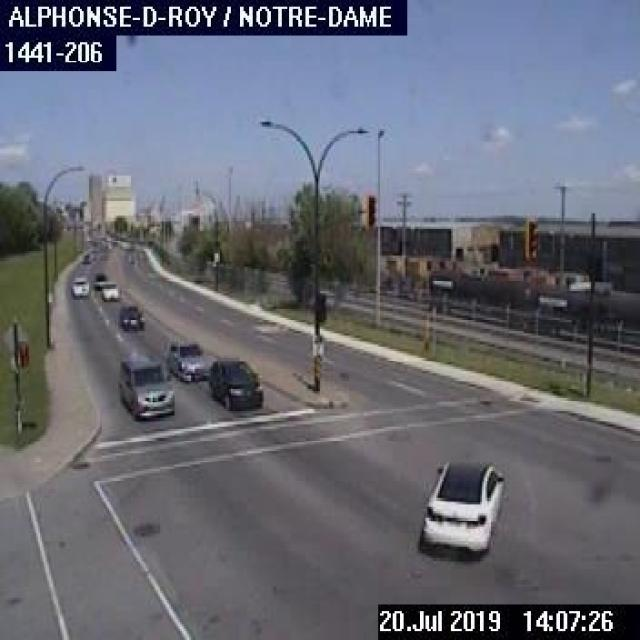vehicle: (418, 456, 504, 556), (113, 348, 177, 418), (207, 357, 261, 407), (164, 335, 210, 380), (119, 303, 145, 329), (98, 278, 121, 304), (69, 272, 89, 298), (92, 272, 106, 288)
